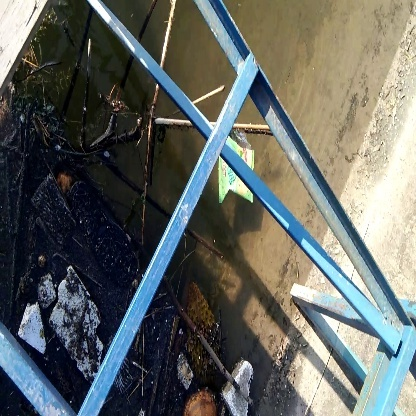branch: (167, 291, 243, 389)
